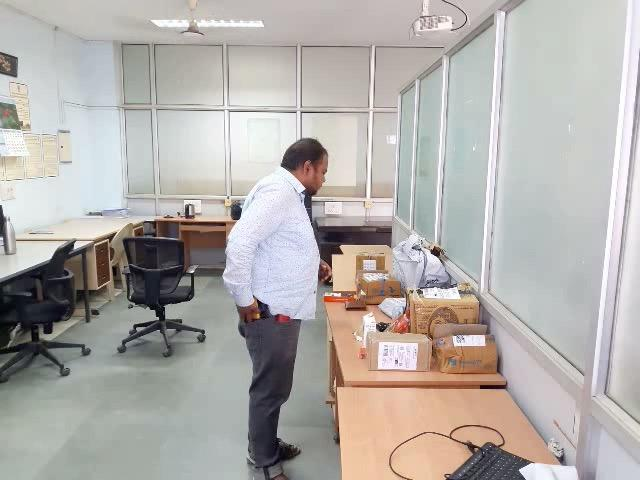shoplifting: (172, 255, 331, 388)
